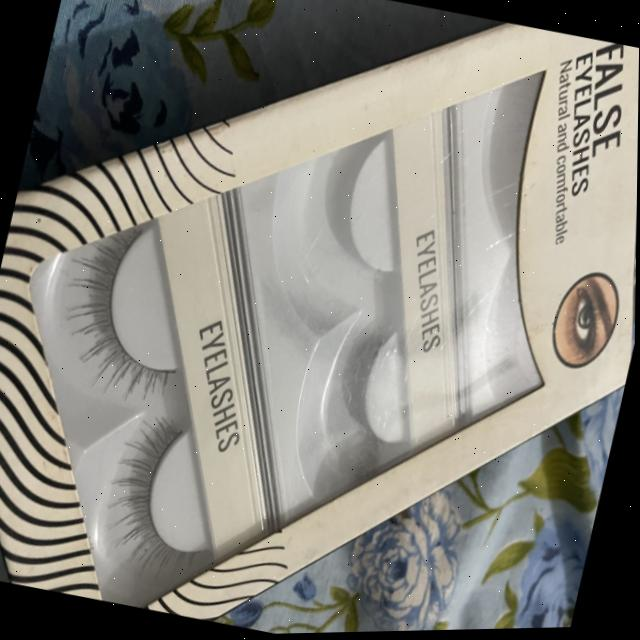eyelash curler: (44, 182, 223, 434), (80, 398, 249, 622)
